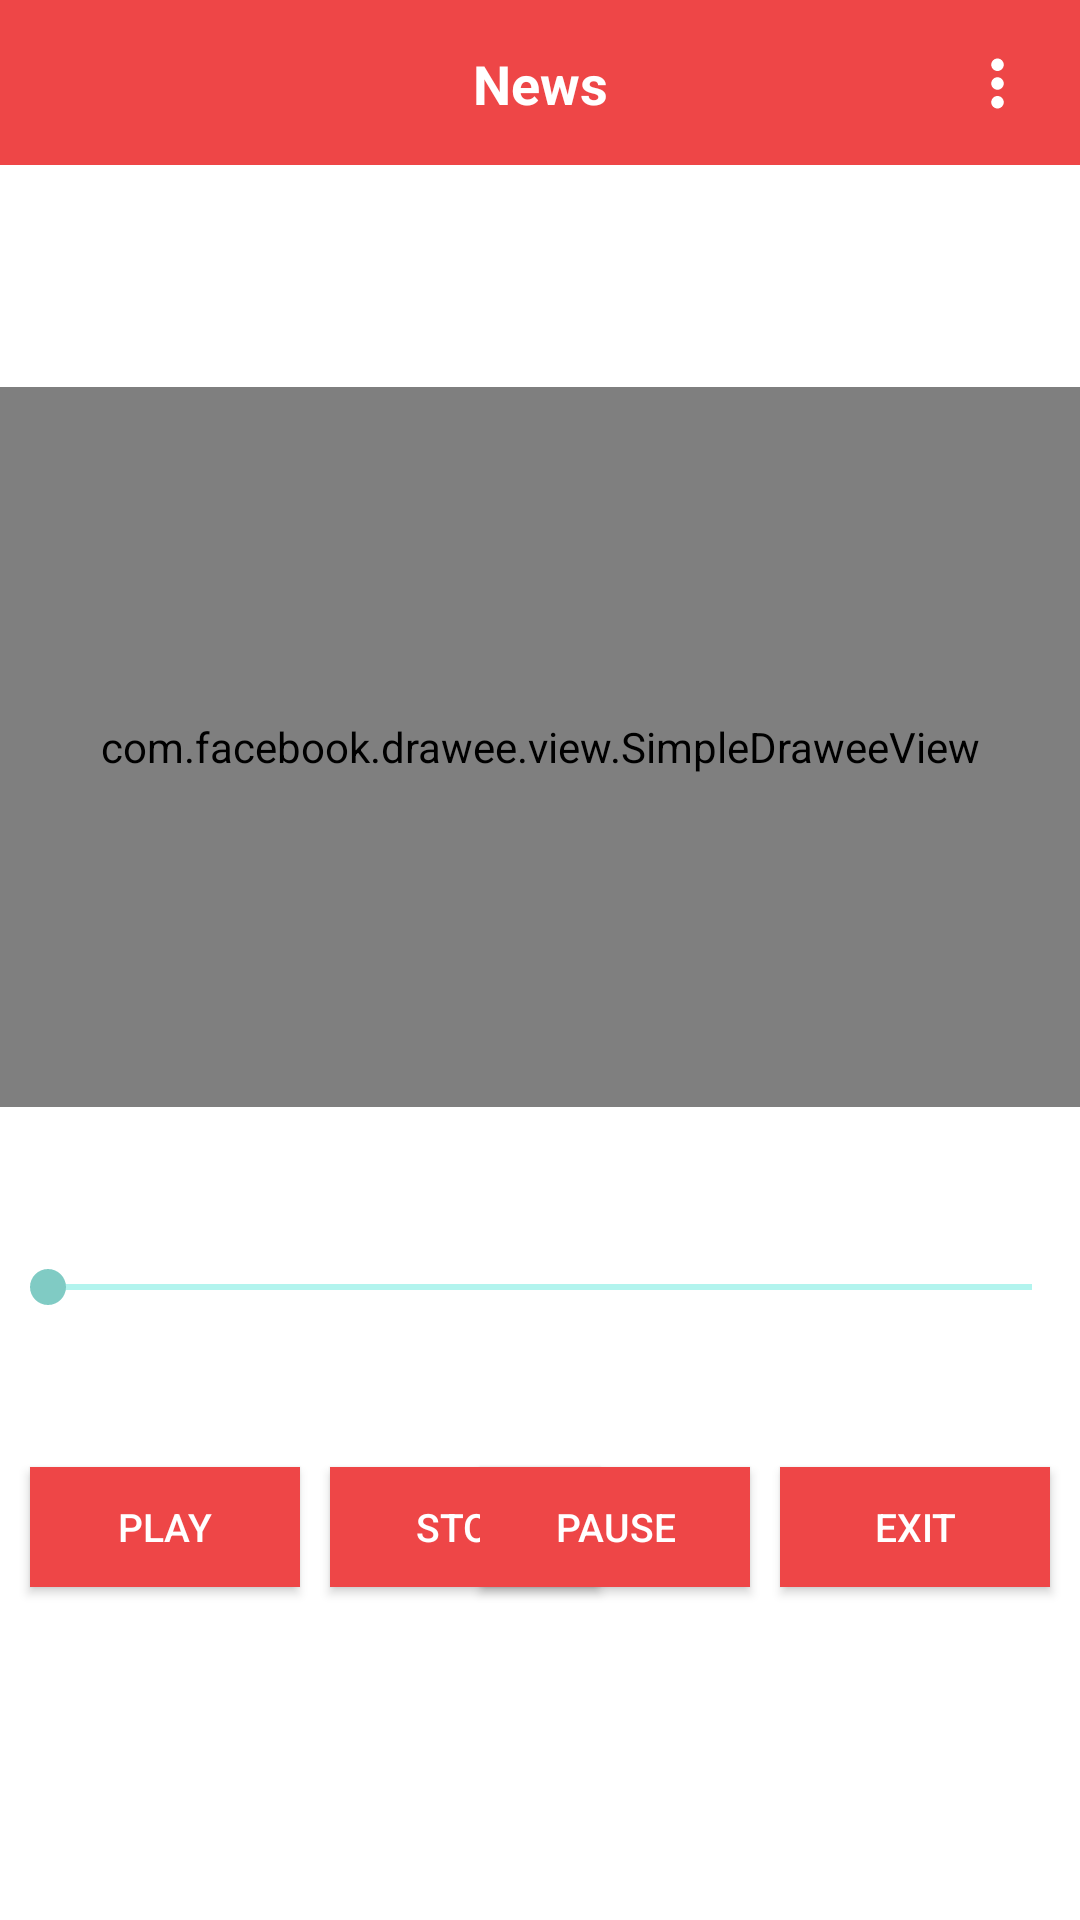

Icons on this 1080×1920 Android screen, each with its box as [left=x1, top=y1, right=x2, bottom=y2]:
three dot: [left=991, top=58, right=1004, bottom=109]
